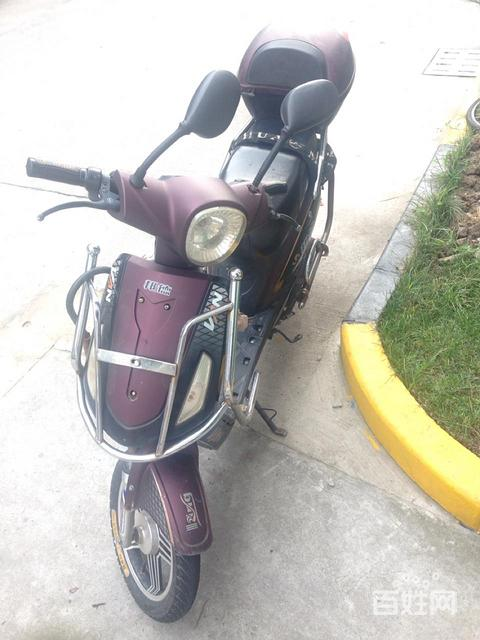电动车: (20, 14, 363, 624)
